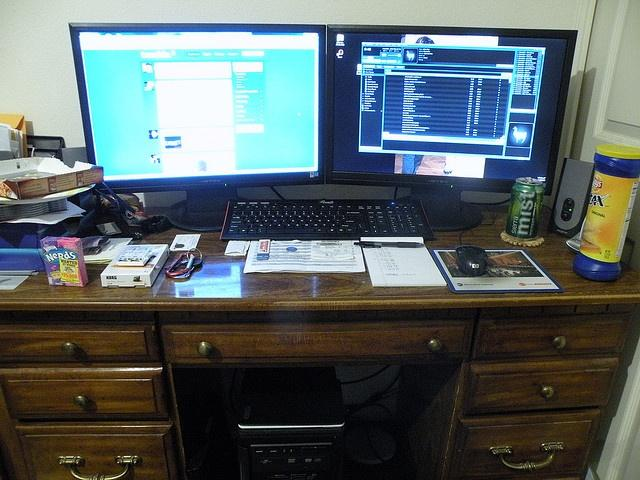AIO PC-Monitor-TV: (67, 22, 326, 201), (325, 21, 578, 203)
